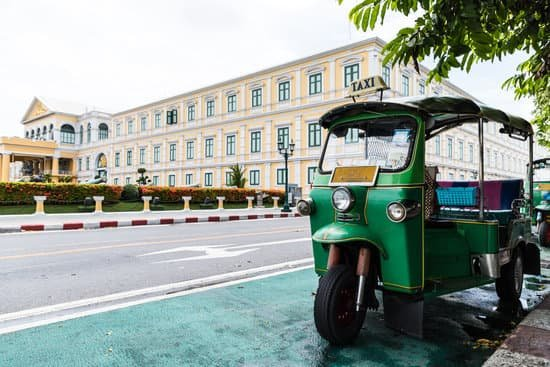threewheel: (297, 93, 541, 348)
